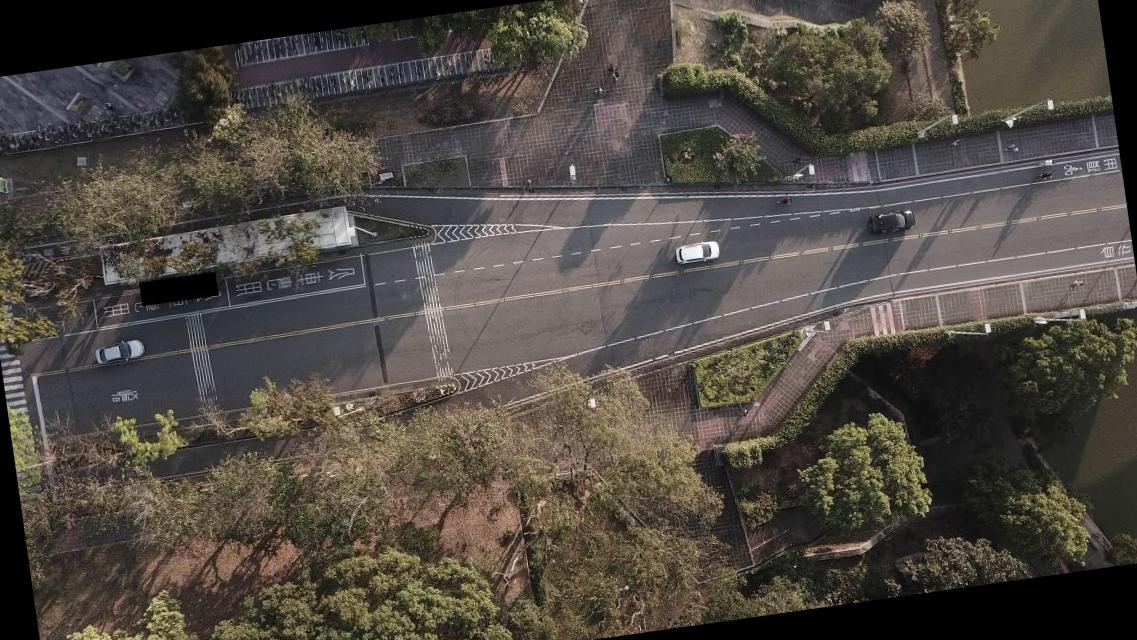vehicle: (93, 338, 146, 367), (867, 208, 916, 236), (674, 238, 720, 266)
